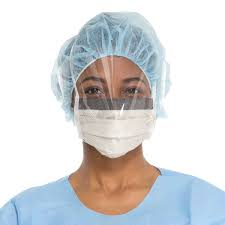flumask: (75, 96, 153, 156)
